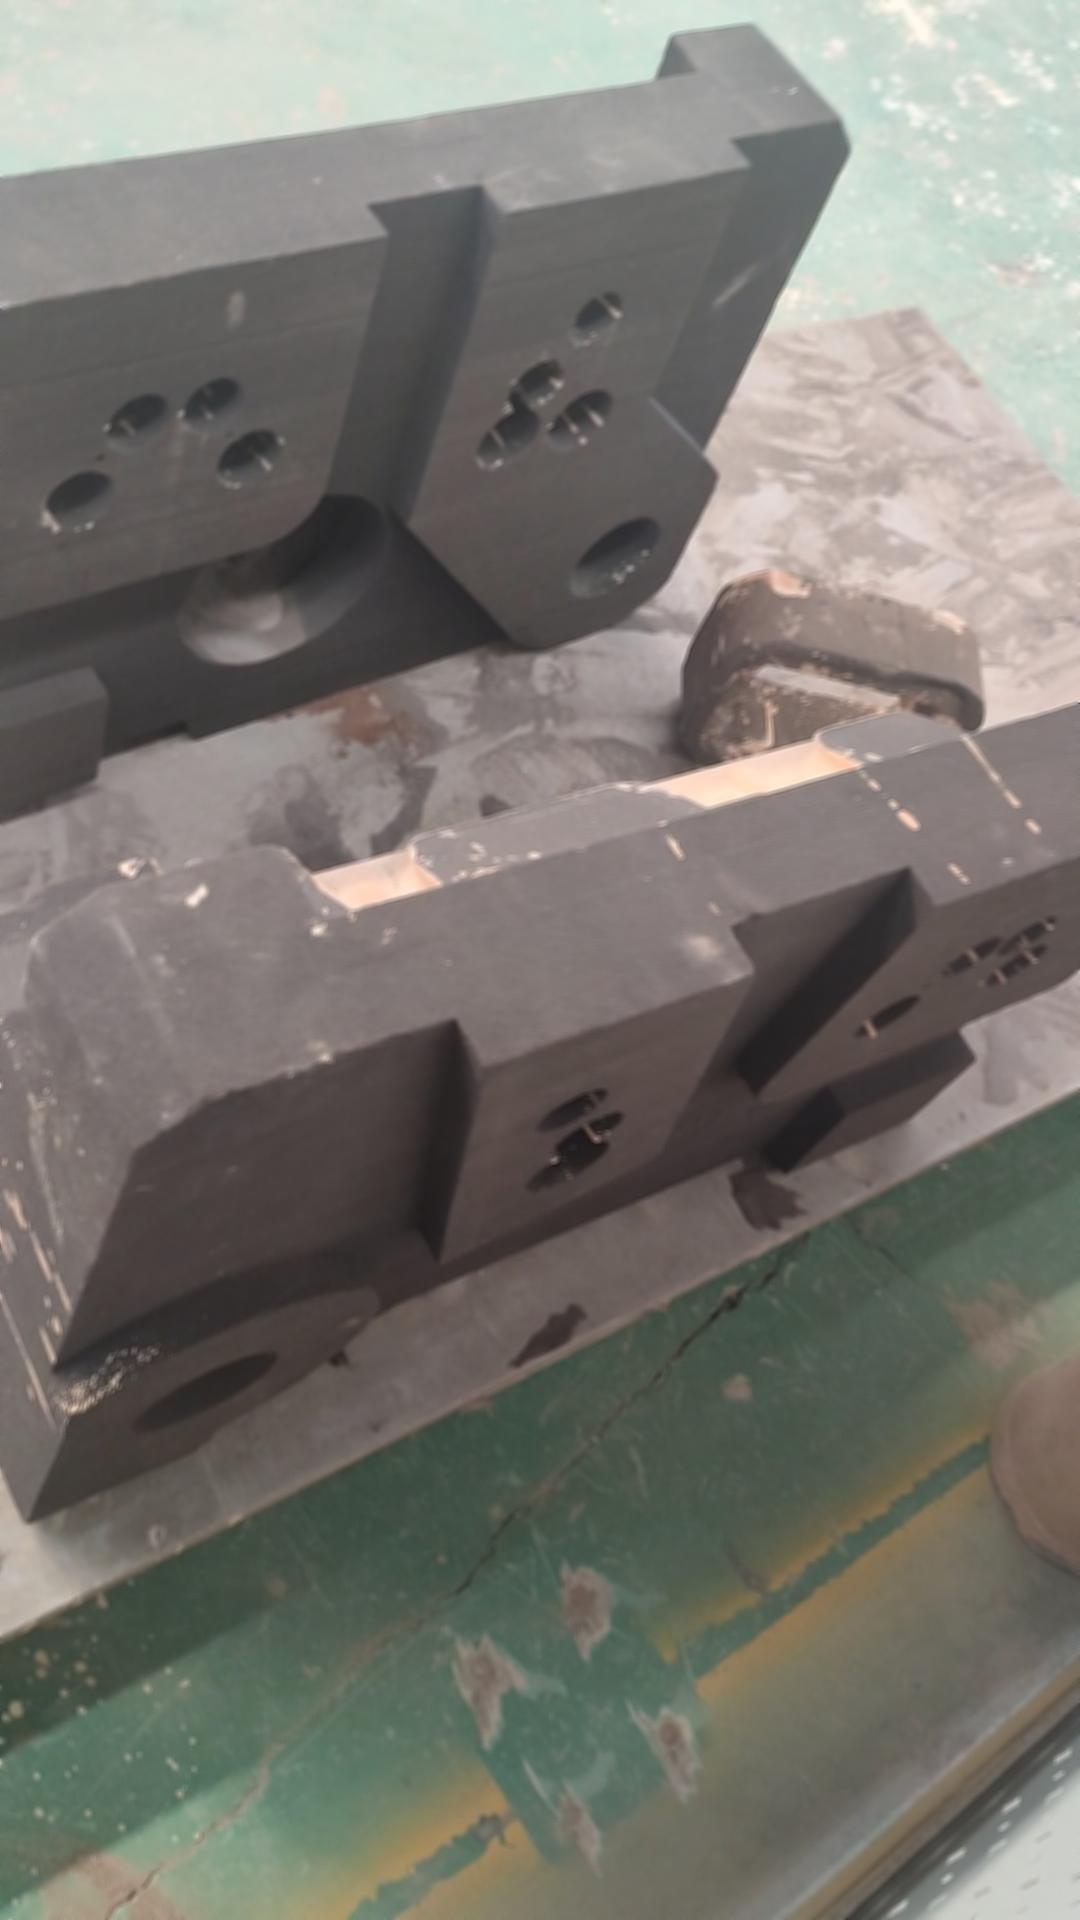pouring hole: (132, 1349, 276, 1436), (568, 518, 663, 597)
